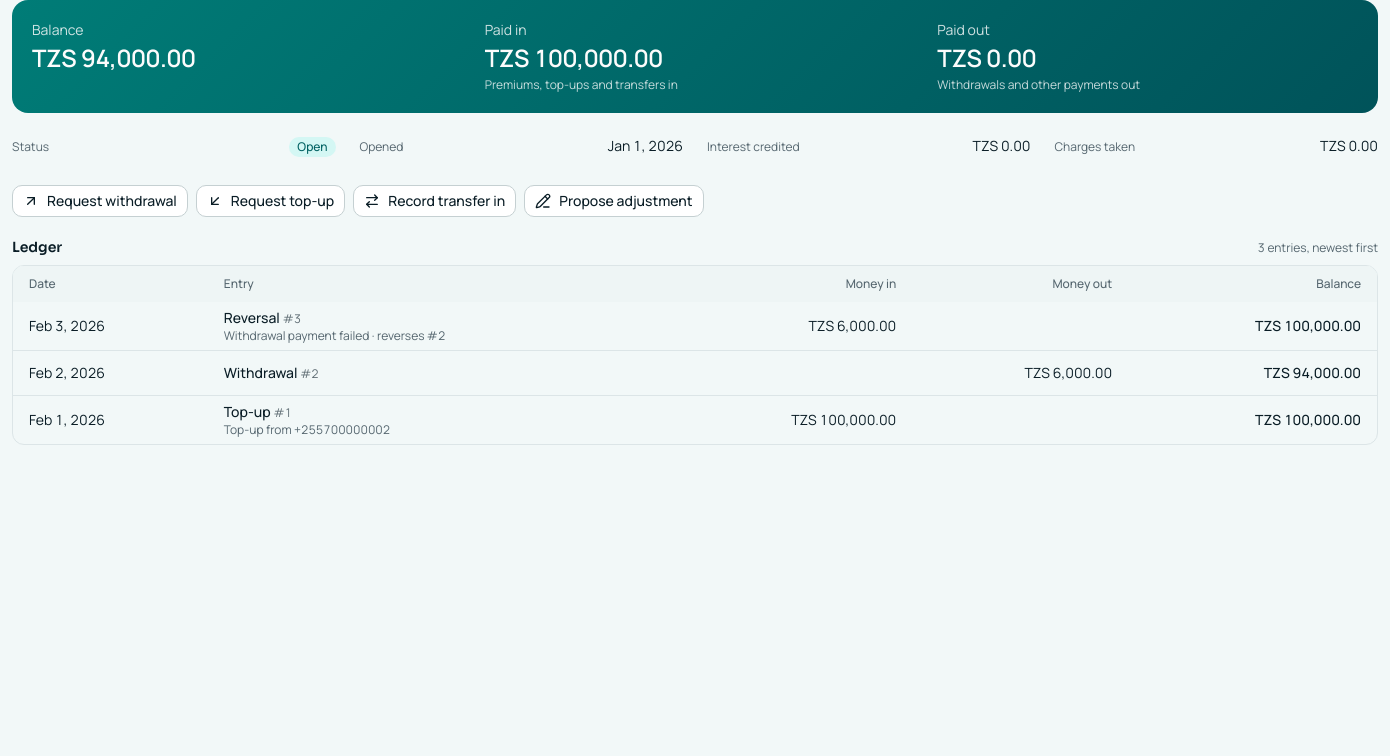
Test: AccountPanel › records a top-up already received with its reference and day, then closes the form and says it was credited
Click the button "Request top-up" at x=270, y=201, box left=196, top=185, right=345, bottom=217
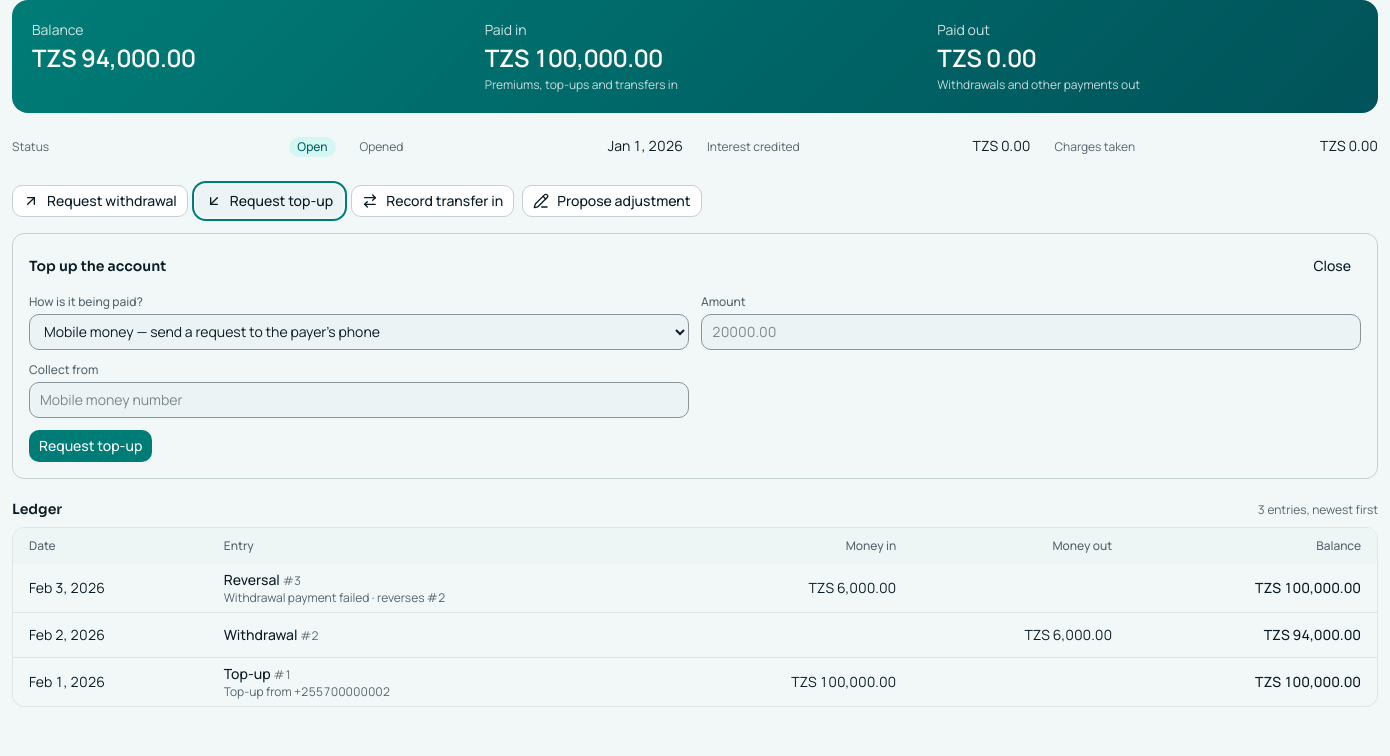
Expected: the field labelled "Collect from" is shown, left=29, top=382, right=689, bottom=418
Select "Cash" in the dropdown labelled "How is it being paid?" at x=359, y=332, box left=29, top=314, right=689, bottom=350
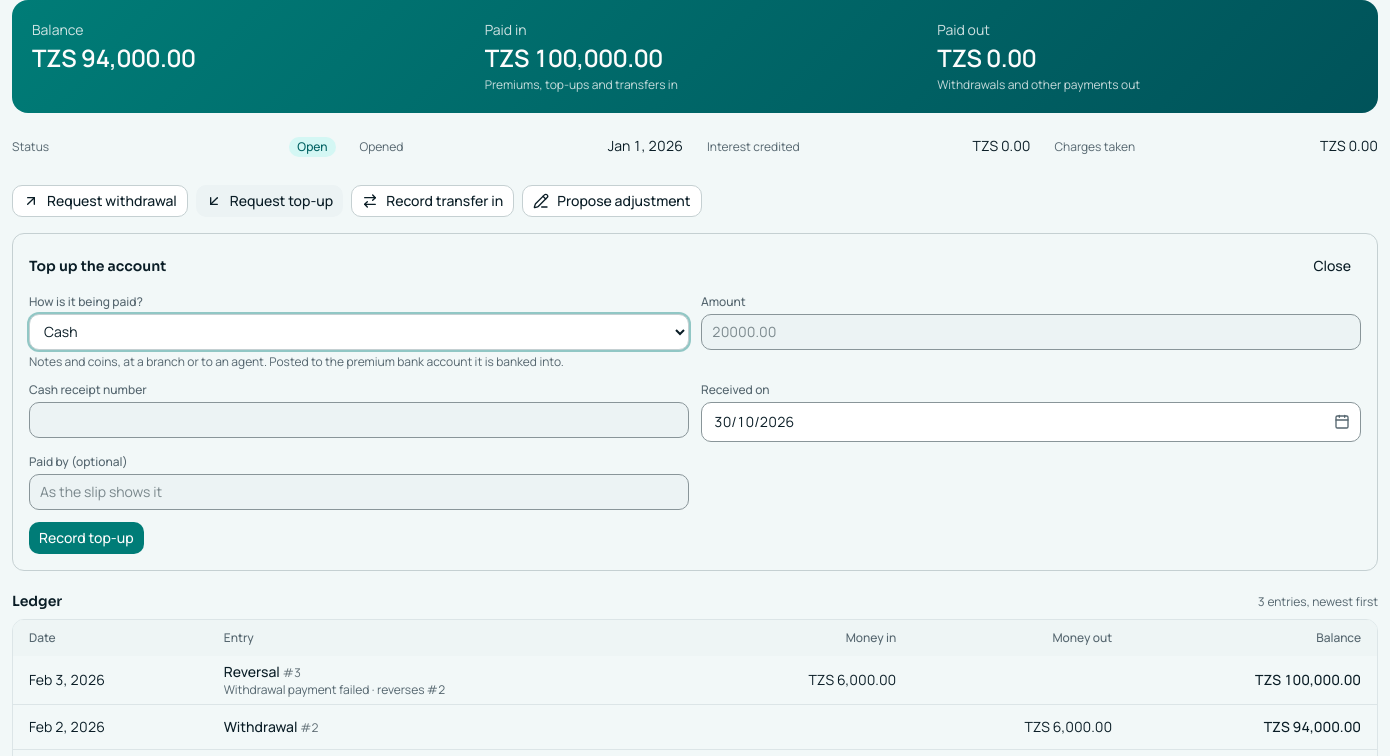
Expected: the label labelled "Collect from" is gone
Type "25000" into the field labelled "Amount" at x=1031, y=332, box left=701, top=314, right=1361, bottom=350
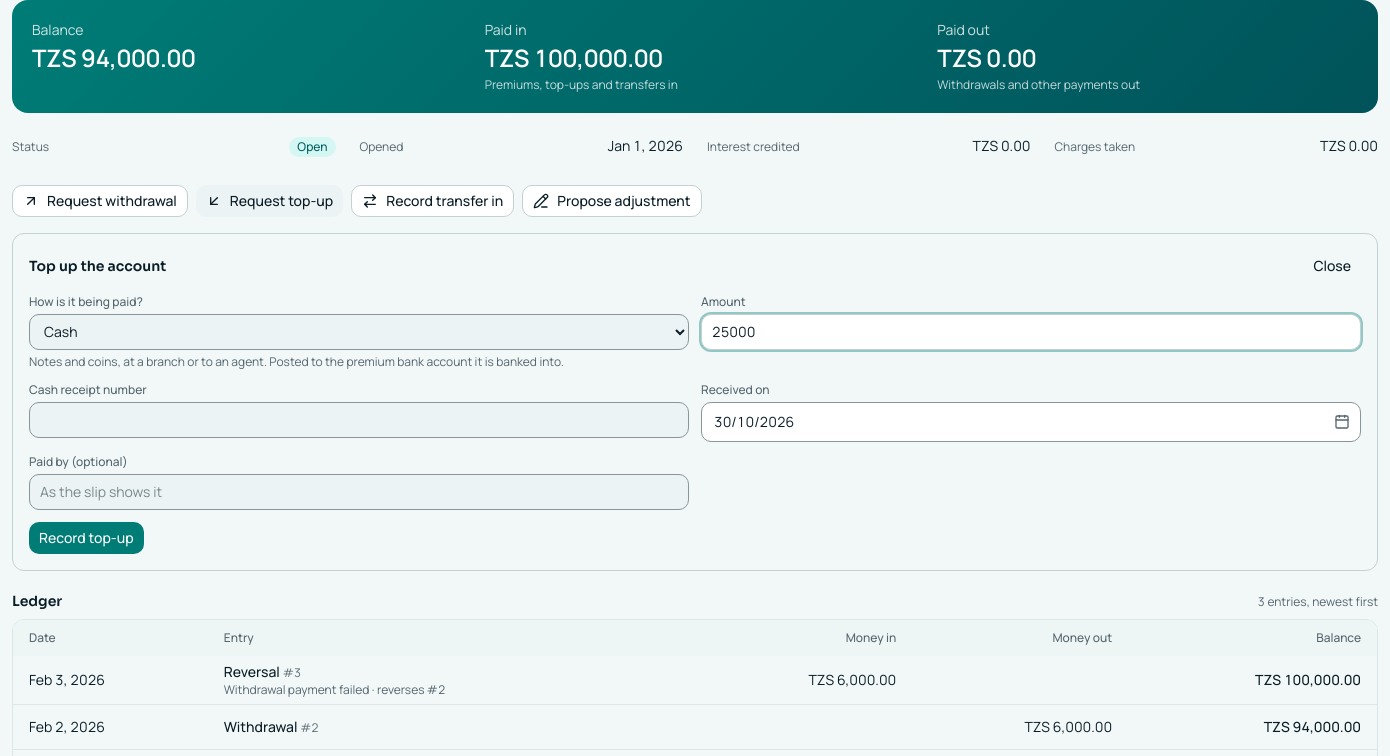
Type "RC-104" into the field labelled "Cash receipt number" at x=359, y=420, box left=29, top=402, right=689, bottom=438
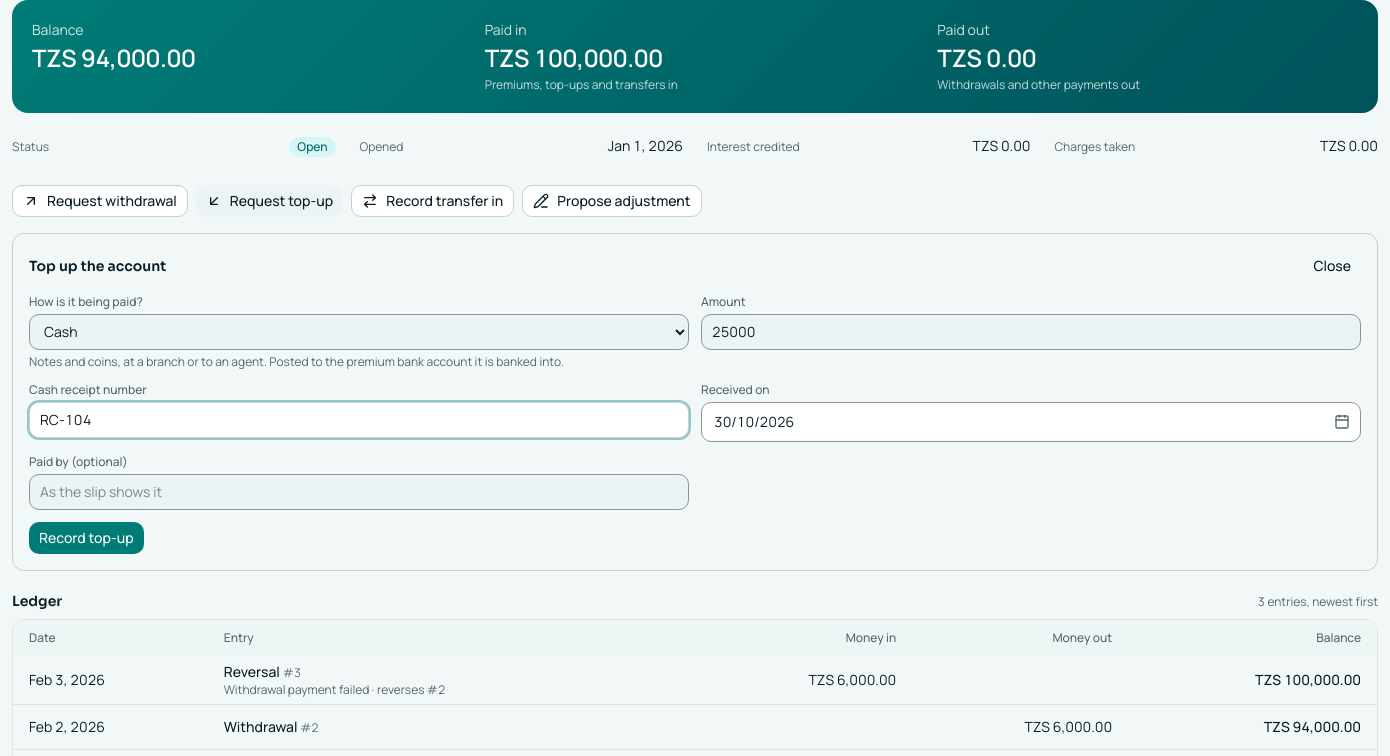
Click the button "Record top-up" at x=86, y=538, box left=29, top=522, right=144, bottom=554
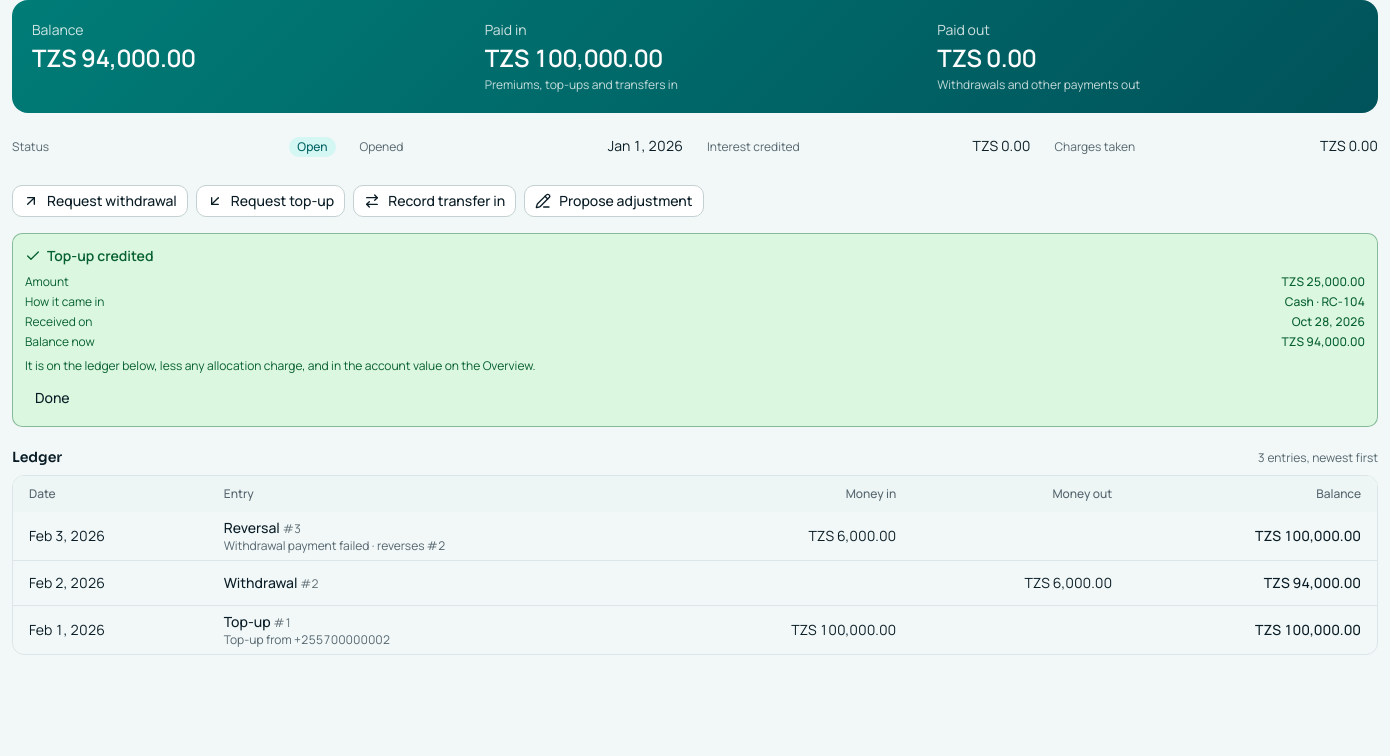
Expected: the text "Top-up credited" shows "Cash · RC-104", left=1285, top=293, right=1365, bottom=310
Expected: the button "Record top-up" is gone
